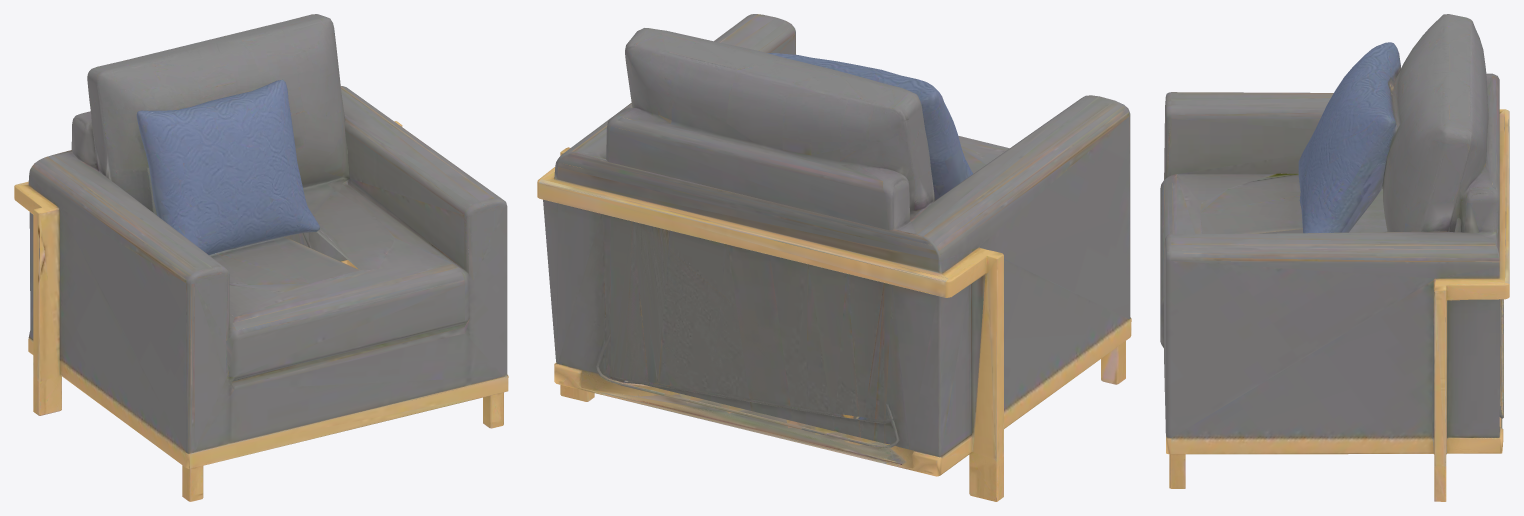
Rendered from Gray Armchair.glb.
3 views of the same model, side by side, from view 1: azimuth 30°, elevation 25°; view 2: azimuth 150°, elevation 25°; view 3: azimuth 270°, elevation 25° (orthographic). The views are drawn at different scales.
Parts seen in each view (by area): view 1: Mesh_0.001; view 2: Mesh_0.001; view 3: Mesh_0.001.
Boxes of the visible parts, x1,y1,x2,y2 form: Mesh_0.001: [14, 14, 508, 501]; Mesh_0.001: [537, 14, 1131, 501]; Mesh_0.001: [1160, 14, 1509, 501].
Size of the model in its own units: 1.06 by 0.9 by 0.8411.
1 material, 1 textured.
